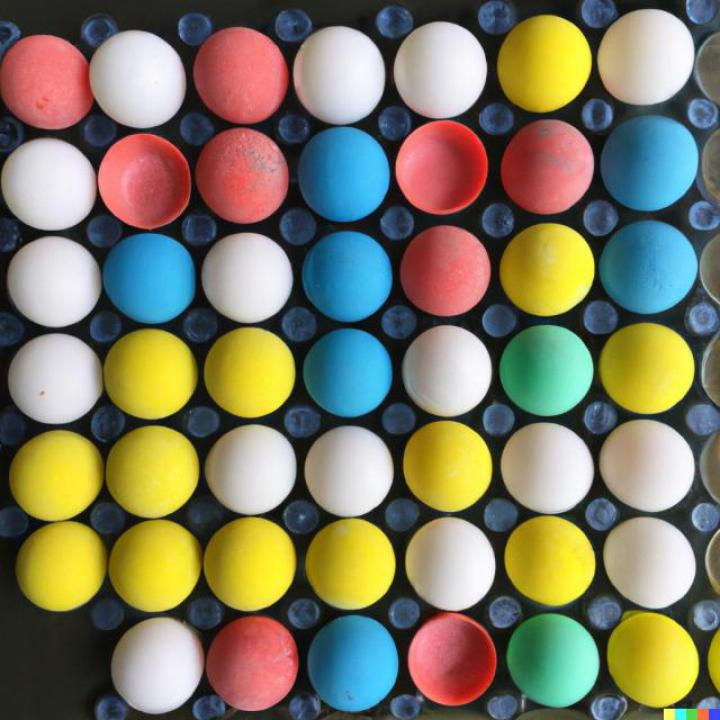white: (88, 29, 190, 132), (596, 6, 697, 108), (390, 18, 490, 120), (292, 25, 388, 126), (109, 616, 206, 714), (398, 321, 494, 419), (598, 419, 697, 514), (199, 229, 295, 326), (5, 235, 103, 330), (604, 514, 699, 612), (0, 137, 99, 231), (404, 515, 498, 612), (498, 422, 596, 515), (302, 422, 397, 517), (7, 331, 103, 424), (204, 422, 298, 516)
